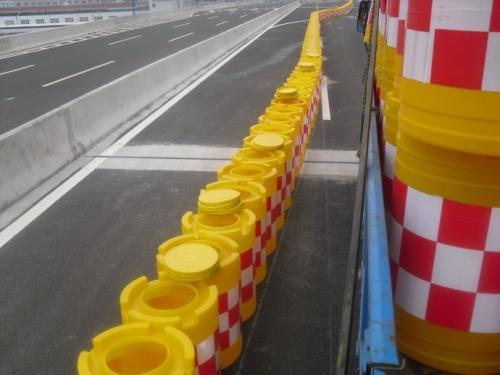cone_barrel: (388, 136, 498, 365), (392, 0, 495, 133), (157, 233, 242, 365), (183, 198, 250, 322), (208, 178, 267, 280), (221, 157, 278, 248), (244, 130, 293, 208), (262, 109, 305, 173)
